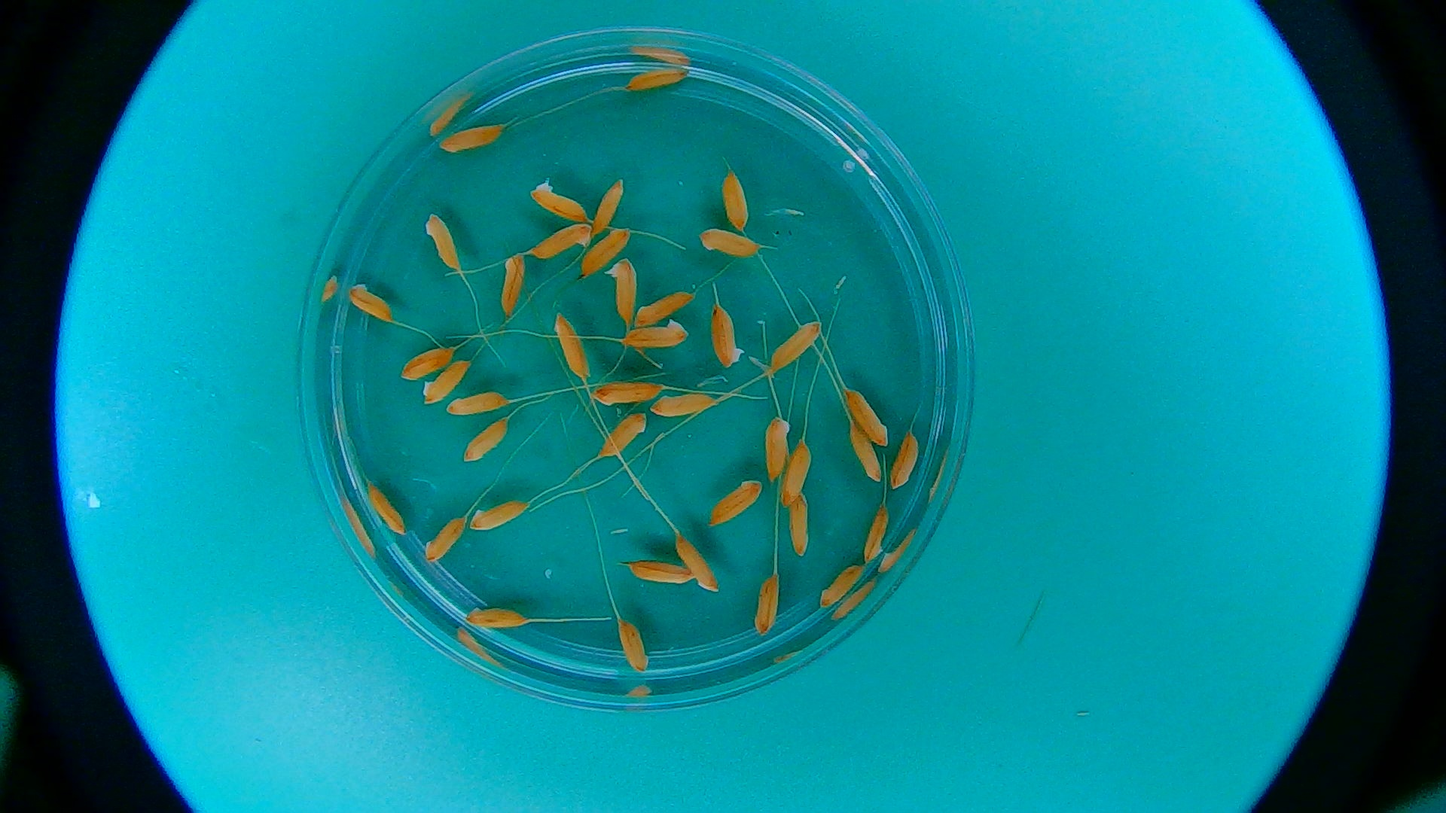no: (840, 382, 891, 447), (673, 531, 723, 595), (705, 476, 764, 530), (768, 318, 823, 374), (552, 310, 593, 382), (596, 409, 651, 461), (581, 226, 633, 280), (438, 118, 509, 157), (422, 207, 464, 272), (364, 479, 408, 539), (632, 289, 696, 330), (419, 359, 473, 407), (529, 223, 594, 262), (621, 318, 693, 352), (616, 558, 694, 589), (697, 225, 764, 261), (843, 423, 883, 483), (462, 416, 513, 463), (709, 306, 746, 370), (819, 560, 864, 612), (590, 178, 627, 239), (782, 437, 813, 509), (423, 514, 466, 565), (467, 500, 531, 534), (496, 251, 526, 323), (397, 345, 455, 382), (749, 574, 782, 639), (615, 618, 651, 677), (464, 601, 527, 634), (764, 416, 795, 483), (788, 490, 816, 564), (719, 169, 751, 233), (586, 381, 663, 407), (346, 281, 394, 322), (888, 431, 920, 492), (626, 63, 690, 93), (649, 391, 719, 418), (861, 504, 891, 562), (443, 390, 507, 416)
yes: (606, 256, 640, 326), (530, 184, 590, 222)
